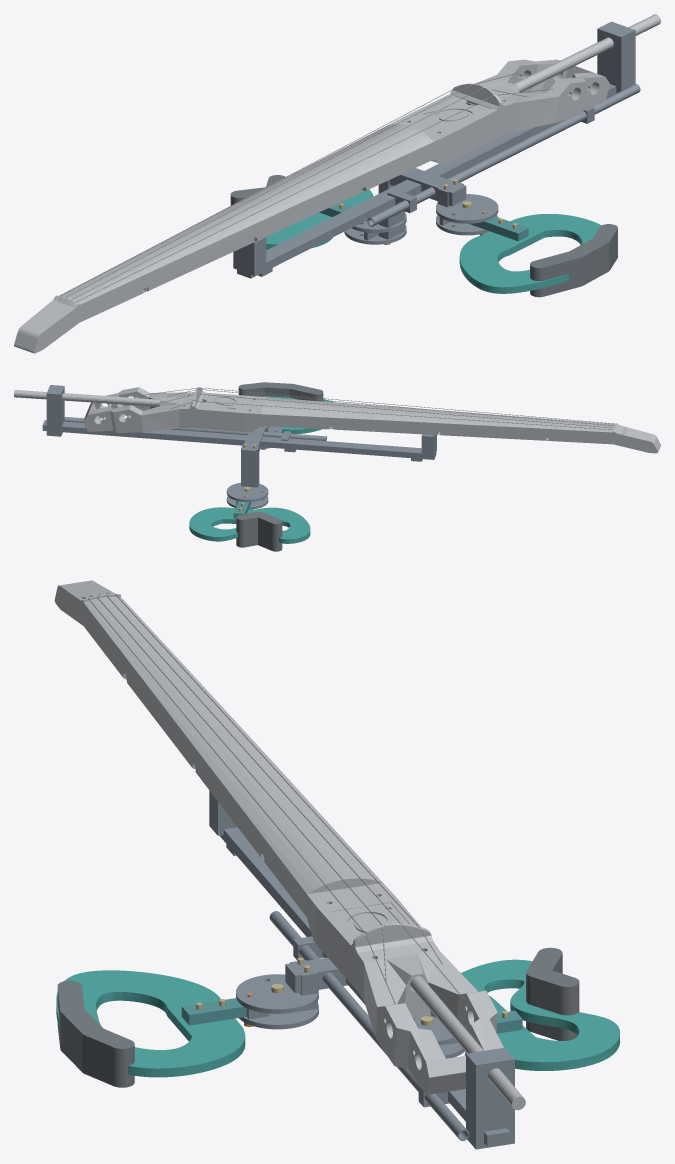
The model's file is bass.glb.
3 views of the same model, one above another, from view 1: azimuth 30°, elevation 25°; view 2: azimuth 150°, elevation 25°; view 3: azimuth 270°, elevation 25° (orthographic). The views are drawn at different scales.
Parts seen in each view (by area): view 1: Part_3, Part_6, contoured_frame_1, Part_1, rear_metal_backbone, Part_2, Part_4, padded_contact_1, Part_5, stowed_endpin_tube, lower_metal_adapter_PROPOSED, clevis_base_1 (+12 smaller); view 2: rear_metal_backbone, Part_6, Part_3, Part_2, Part_4, Part_1, contoured_frame_-1, Part_5, padded_contact_-1, padded_contact_1, Center_bar, lower_metal_adapter_PROPOSED (+11 smaller); view 3: Part_6, contoured_frame_1, Part_3, contoured_frame_-1, Part_4, Part_2, Part_1, padded_contact_1, Part_5, lower_metal_adapter_PROPOSED, clevis_base_1, padded_contact_-1 (+7 smaller).
Boxes of the visible parts, x1,y1,x2,y2 form: Part_3: [225, 156, 367, 243]; Part_6: [475, 59, 609, 134]; contoured_frame_1: [459, 214, 601, 293]; Part_1: [14, 263, 149, 353]; rear_metal_backbone: [237, 84, 616, 278]; Part_2: [123, 209, 258, 290]; Part_4: [326, 117, 450, 189]; padded_contact_1: [530, 224, 617, 297]; Part_5: [403, 90, 514, 164]; stowed_endpin_tube: [367, 84, 640, 226]; lower_metal_adapter_PROPOSED: [597, 21, 635, 93]; clevis_base_1: [436, 194, 498, 235]; rear_metal_backbone: [42, 420, 436, 459]; Part_6: [83, 387, 189, 433]; Part_3: [327, 402, 439, 434]; Part_2: [435, 410, 550, 440]; Part_4: [245, 396, 334, 432]; Part_1: [543, 418, 660, 453]; contoured_frame_-1: [189, 507, 310, 543]; Part_5: [179, 391, 251, 432]; padded_contact_-1: [236, 511, 282, 551]; padded_contact_1: [238, 382, 323, 401]; Center_bar: [14, 390, 204, 406]; lower_metal_adapter_PROPOSED: [46, 385, 64, 436]; Part_6: [357, 951, 503, 1094]; contoured_frame_1: [56, 970, 245, 1077]; Part_3: [191, 739, 333, 862]; contoured_frame_-1: [461, 959, 620, 1070]; Part_4: [265, 825, 394, 940]; Part_2: [127, 652, 252, 766]; Part_1: [54, 580, 171, 682]; padded_contact_1: [57, 980, 134, 1087]; Part_5: [313, 896, 439, 990]; lower_metal_adapter_PROPOSED: [466, 1047, 514, 1149]; clevis_base_1: [236, 974, 318, 1029]; padded_contact_-1: [526, 947, 579, 1040].
Bounding box in the file's own units: 1013 × 181 × 462.
